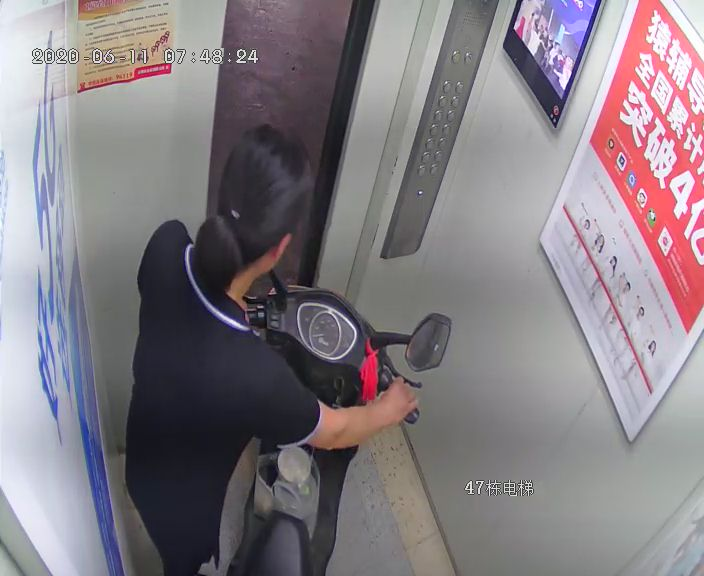Electric-bicycle: (227, 268, 415, 576)
